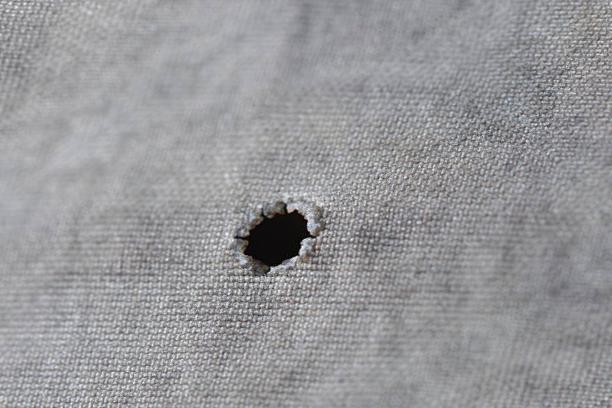hole: (230, 197, 324, 277)
